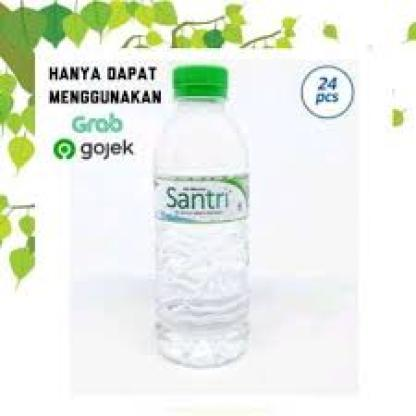Glass Bottle: (146, 64, 256, 377)
